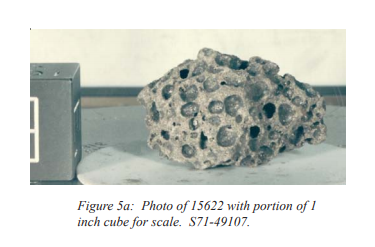Basalt: (142, 59, 326, 173)
